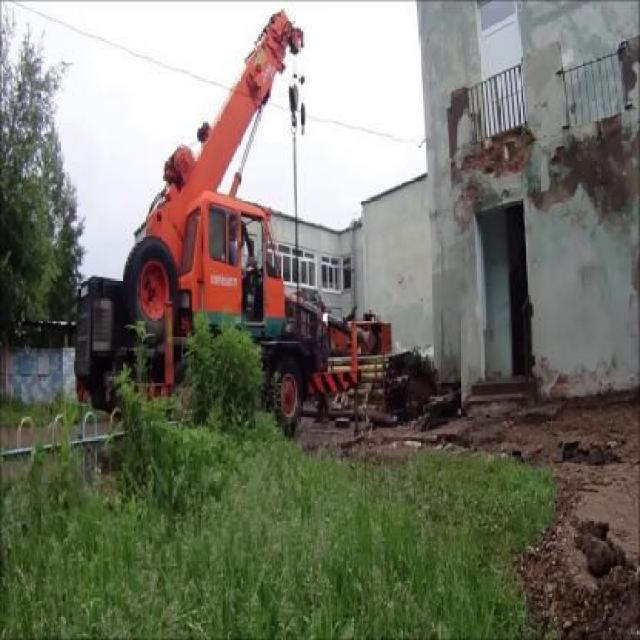Mobile Crane: (81, 8, 365, 437)
